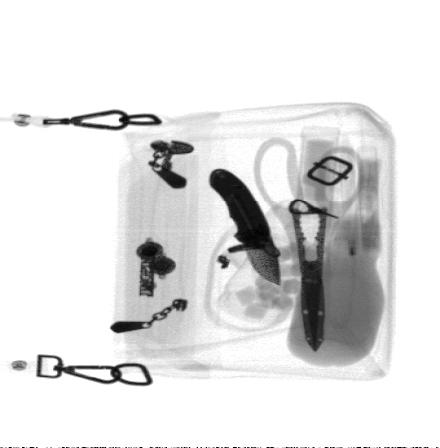Knife: (208, 168, 282, 285)
Scissors: (252, 134, 366, 351)
